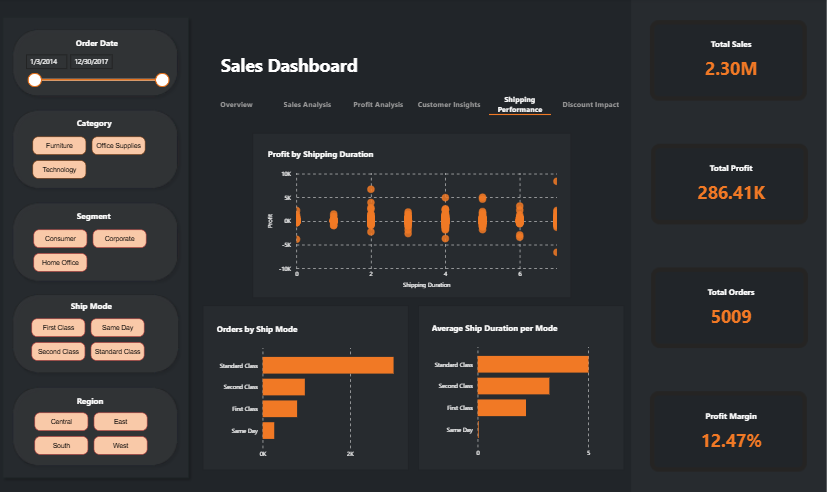

What the dashboard file says about the page in this screenshot:
{"tool":"powerbi","page":{"name":"Shipping Performance","canvas":[1500,900],"ordinal":4},"visuals":[{"type":"textbox","box":[396,94,272,68],"z":0},{"type":"slicer","fields":{"Values":["DimOrder.Order Date"]},"box":[35.6,91.6,280,78.9],"z":1000},{"type":"ChicletSlicer1448559807354","fields":{"Category":["DimCategory.Category"]},"box":[51.5,240.2,244,102],"z":2000},{"type":"textbox","box":[133.3,64.9,206.7,35.6],"z":3000},{"type":"textbox","box":[135.5,210.2,208,36],"z":4000},{"type":"ChicletSlicer1448559807354","fields":{"Category":["DimSegment.Segment"]},"box":[51.8,408.2,244.4,102.2],"z":5000},{"type":"textbox","box":[136.2,378.2,207.8,35.6],"z":6000},{"type":"ChicletSlicer1448559807354","fields":{"Category":["DimShipping.Ship Mode"]},"box":[49.1,569.8,244.4,102.2],"z":7000},{"type":"textbox","box":[124.2,539.6,208,36],"z":8000},{"type":"ChicletSlicer1448559807354","fields":{"Category":["DimRegion.Region"]},"box":[54,740,244,102],"z":9000},{"type":"textbox","box":[136,712,208,36],"z":10000},{"type":"card","title":"Total Sales","fields":{"Values":["Sum(FactSales.Sales)"]},"box":[1218,72,210,88],"z":11000},{"type":"card","title":"Total Profit","fields":{"Values":["Sum(FactSales.Profit)"]},"box":[1218,296,210,88],"z":12000},{"type":"card","title":"Total Orders","fields":{"Values":["Count(FactSales.Order ID)"]},"box":[1218,520,210,88],"z":13000},{"type":"card","title":"Profit Margin","fields":{"Values":["FactSales.Profit Margin %"]},"box":[1218,744,210,88],"z":14000},{"type":"pageNavigator","box":[370,166,758,50],"z":15000},{"type":"shape","box":[886,182,112,56],"z":16000},{"type":"textbox","box":[388,582,280,38],"z":17000},{"type":"clusteredBarChart","fields":{"Category":["DimShipping.Ship Mode"],"Y":["Count(FactSales.Order ID)"]},"box":[388,620,336,222],"z":18000},{"type":"textbox","box":[778,580,280,38],"z":19000},{"type":"clusteredBarChart","fields":{"Category":["DimShipping.Ship Mode"],"Y":["Avg(FactSales.Shipping Duration)"]},"box":[778,618,336,222],"z":20000},{"type":"textbox","box":[480,266,280,38],"z":21000},{"type":"scatterChart","fields":{"X":["FactSales.Shipping Duration"],"Y":["FactSales.Profit"]},"box":[480,303.8,536.2,226.2],"z":22000}]}

Visuals, with their boxes in screenshot pixels (x1, y1, x2, y2), scaled from the page's 1500x900 canvas onto the 827x492 screenshot:
textbox: 218:51:368:89
slicer - DimOrder.Order Date: 20:50:174:93
ChicletSlicer1448559807354 - DimCategory.Category: 28:131:163:187
textbox: 73:35:187:55
textbox: 75:115:189:135
ChicletSlicer1448559807354 - DimSegment.Segment: 29:223:163:279
textbox: 75:207:190:226
ChicletSlicer1448559807354 - DimShipping.Ship Mode: 27:311:162:367
textbox: 68:295:183:315
ChicletSlicer1448559807354 - DimRegion.Region: 30:405:164:460
textbox: 75:389:190:409
"Total Sales" card: 672:39:787:87
"Total Profit" card: 672:162:787:210
"Total Orders" card: 672:284:787:332
"Profit Margin" card: 672:407:787:455
pageNavigator: 204:91:622:118
shape: 488:99:550:130
textbox: 214:318:368:339
clusteredBarChart - DimShipping.Ship Mode x Count(FactSales.Order ID): 214:339:399:460
textbox: 429:317:583:338
clusteredBarChart - DimShipping.Ship Mode x Avg(FactSales.Shipping Duration): 429:338:614:459
textbox: 265:145:419:166
scatterChart - FactSales.Shipping Duration x FactSales.Profit: 265:166:560:290
